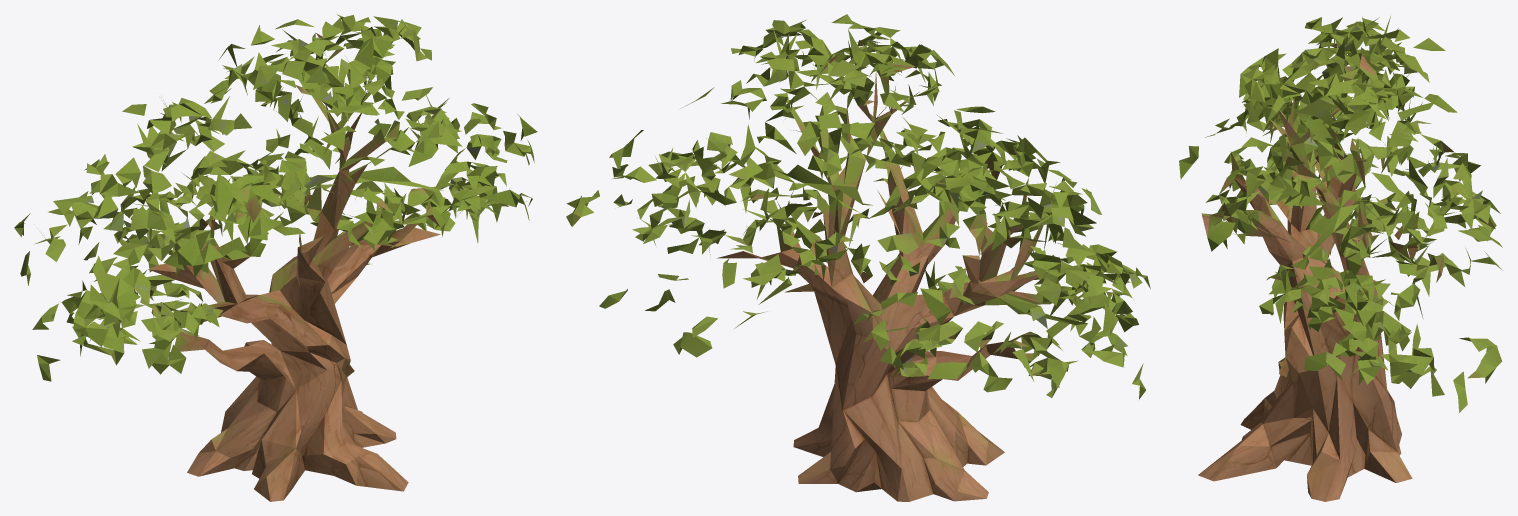
Rendered from tree_round.glb.
3 renders of one model, left to right at view 1: azimuth 30°, elevation 25°; view 2: azimuth 150°, elevation 25°; view 3: azimuth 270°, elevation 25°, orthographic. The views are drawn at different scales.
Size of the model in its own units: 1.83 by 1.43 by 0.9533.
Materials: 1 (1 with a texture image).
